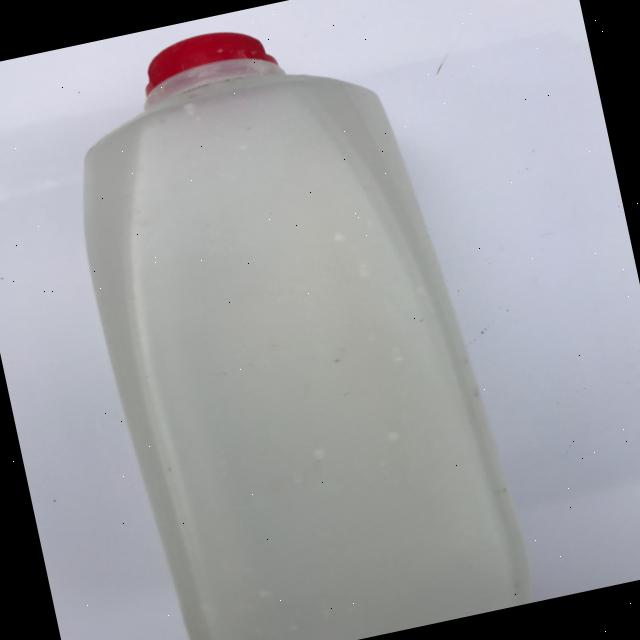plastic: (45, 0, 537, 640)
